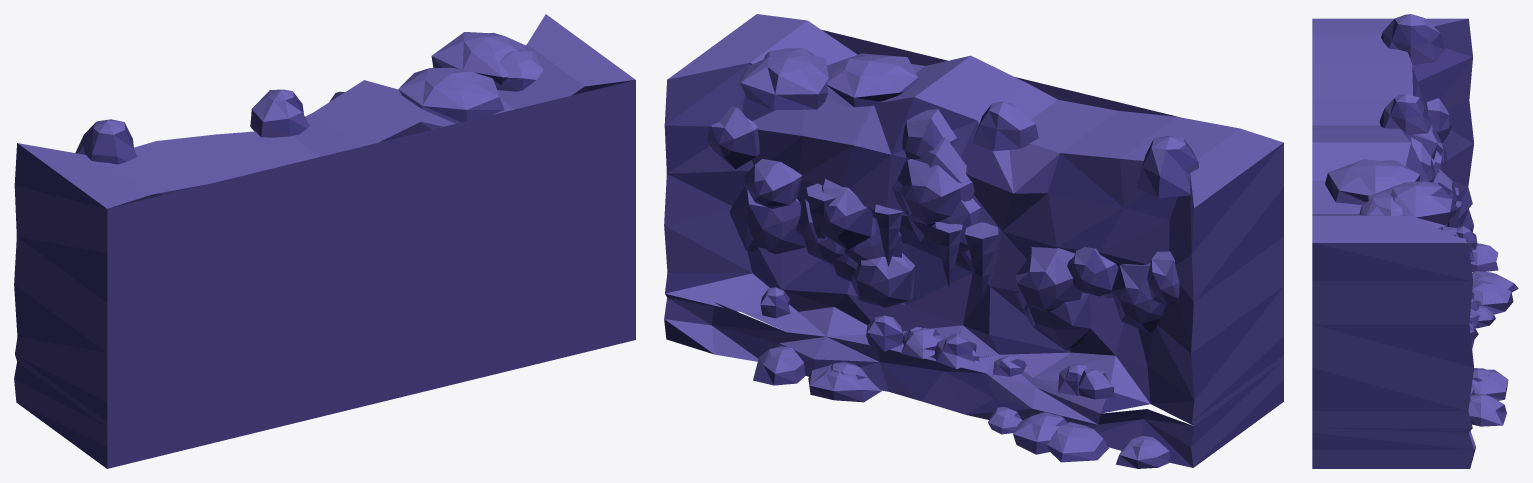
Rendered from Mine_Perimeter_Wall_A.obj.
The picture shows the model from 3 angles, left to right: view 1: azimuth 30°, elevation 25°; view 2: azimuth 150°, elevation 25°; view 3: azimuth 270°, elevation 25°; orthographic projection. The views are drawn at different scales.
Visible parts, largest first — view 1: Mine_Perimeter_Wall_A; view 2: Mine_Perimeter_Wall_A; view 3: Mine_Perimeter_Wall_A.
Boxes of the visible parts, box(x1,y1,x2,y2) form: Mine_Perimeter_Wall_A: box(14, 14, 635, 468); Mine_Perimeter_Wall_A: box(664, 14, 1283, 468); Mine_Perimeter_Wall_A: box(1312, 14, 1518, 468).
Size of the model in its own units: 20 by 10.66 by 7.78.
